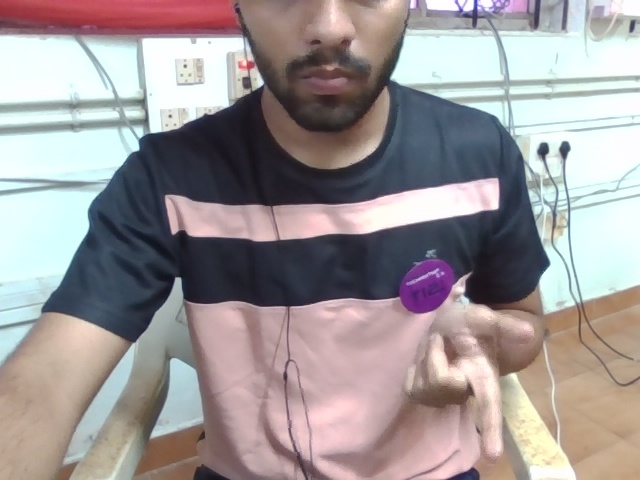go: (372, 301, 537, 472)
